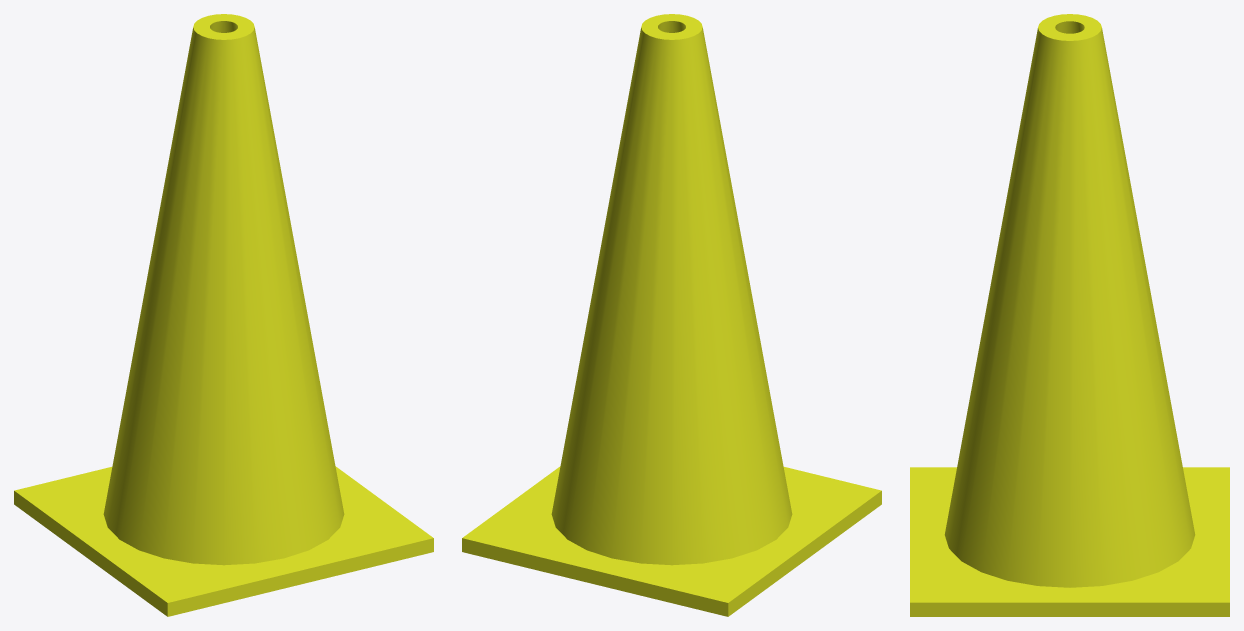
Rendered from Yellow Cone.FBX.
3 renders of one model, left to right at view 1: azimuth 30°, elevation 25°; view 2: azimuth 150°, elevation 25°; view 3: azimuth 270°, elevation 25°, orthographic. The views are drawn at different scales.
Visible parts, largest first — view 1: Box001; view 2: Box001; view 3: Box001.
Boxes of the visible parts, x1,y1,x2,y2 form: Box001: [14, 14, 433, 616]; Box001: [462, 14, 881, 616]; Box001: [910, 14, 1229, 616].
Bounding box in the file's own units: 10 × 18 × 10.
